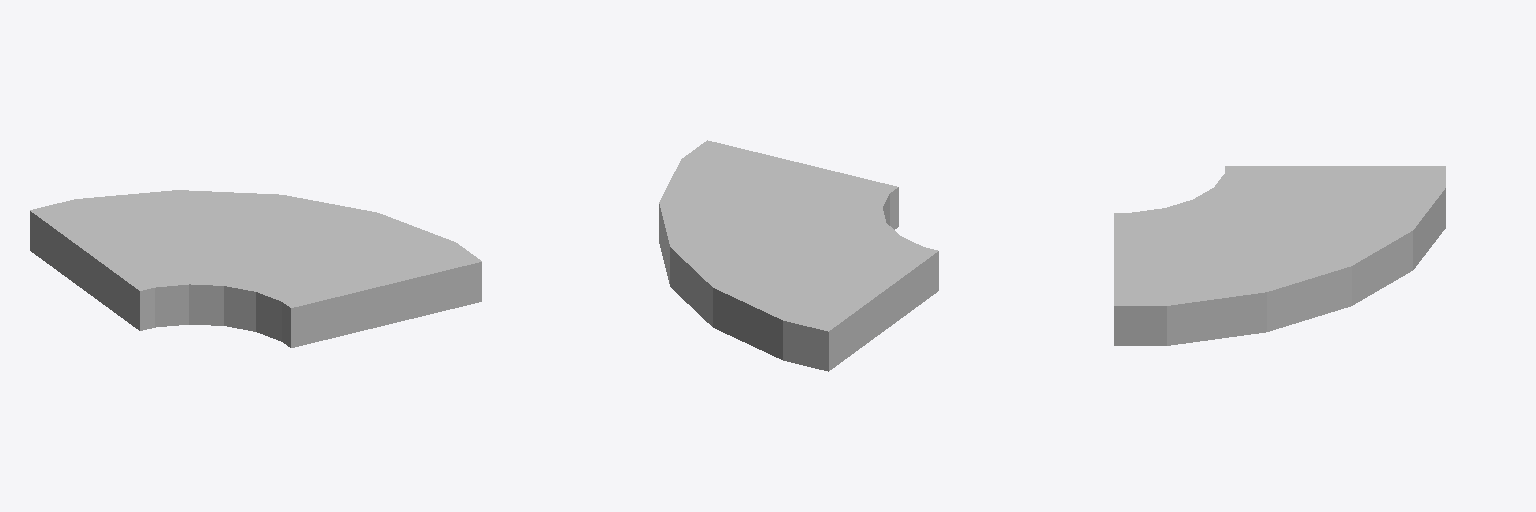
File: struct_large_curved_floor.obj
3 renders of one model, left to right at view 1: azimuth 30°, elevation 25°; view 2: azimuth 150°, elevation 25°; view 3: azimuth 270°, elevation 25°, orthographic.
Parts seen in each view (by area): view 1: struct_large_curved_floor; view 2: struct_large_curved_floor; view 3: struct_large_curved_floor.
Boxes of the visible parts, x1=… form: struct_large_curved_floor: x1=30, y1=190, x2=481, y2=347; struct_large_curved_floor: x1=659, y1=140, x2=938, y2=371; struct_large_curved_floor: x1=1114, y1=166, x2=1445, y2=345.
Bounding box in the file's own units: 1.5 × 0.2 × 1.5.